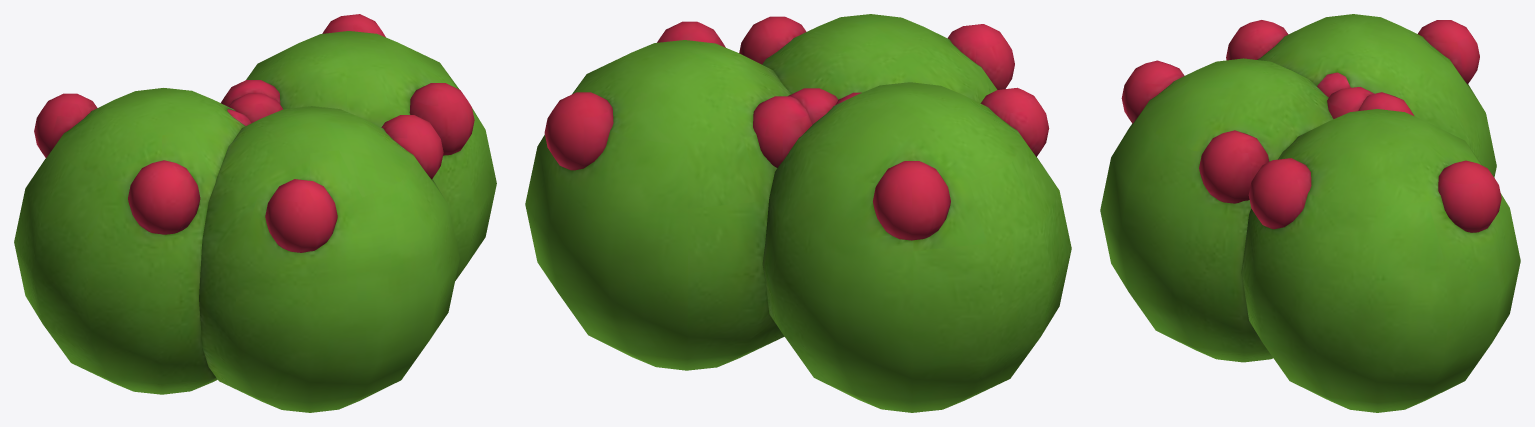
Rendered from food.glb.
The picture shows the model from 3 angles, left to right: view 1: azimuth 30°, elevation 25°; view 2: azimuth 150°, elevation 25°; view 3: azimuth 270°, elevation 25°; orthographic projection. The views are drawn at different scales.
Parts seen in each view (by area): view 1: Berry; view 2: Berry; view 3: Berry.
Boxes of the visible parts, x1,y1,x2,y2 form: Berry: (14,14,496,412); Berry: (525,14,1071,412); Berry: (1100,14,1520,412).
Size of the model in its own units: 1.09 by 0.64 by 0.88.
Materials: 1 (1 with a texture image).
